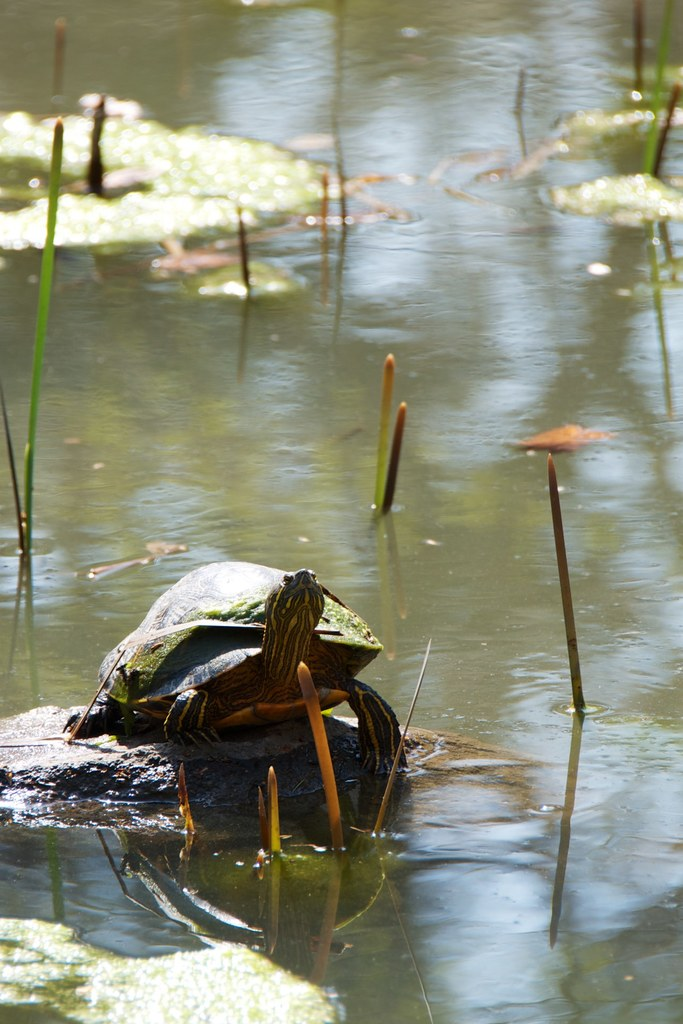Sea turtles: (62, 553, 410, 785)
